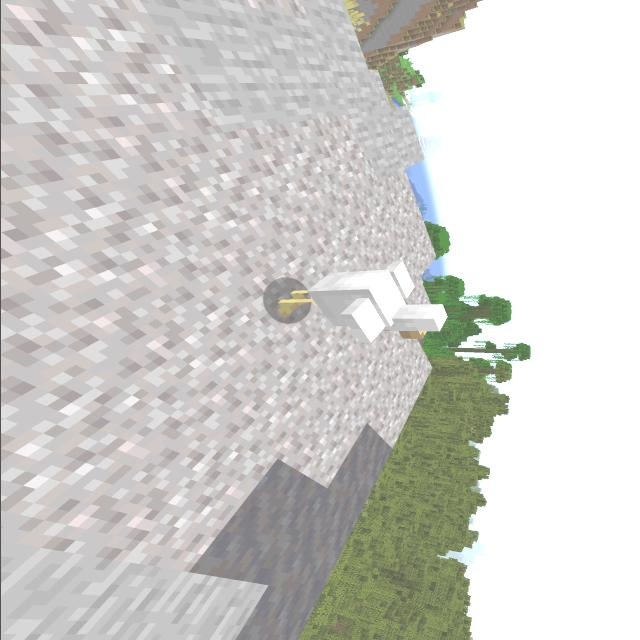chicken: (257, 256, 457, 346)
